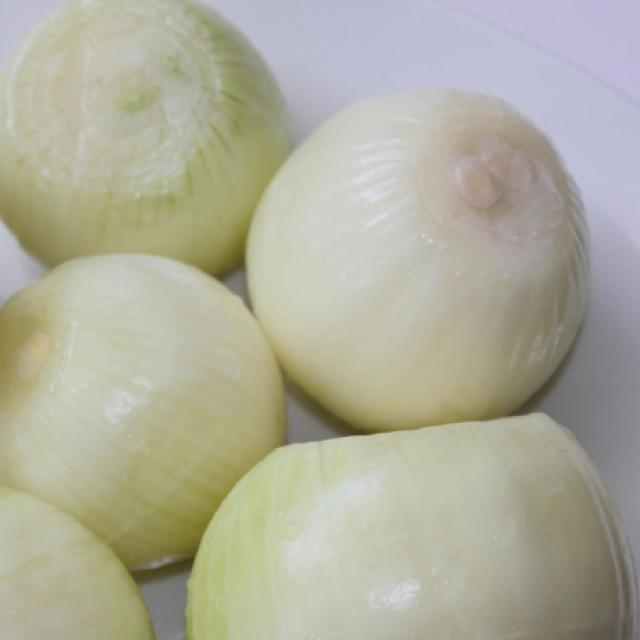onion: (254, 86, 593, 424), (183, 433, 640, 640), (2, 264, 278, 566), (0, 0, 284, 282), (0, 468, 155, 640)
